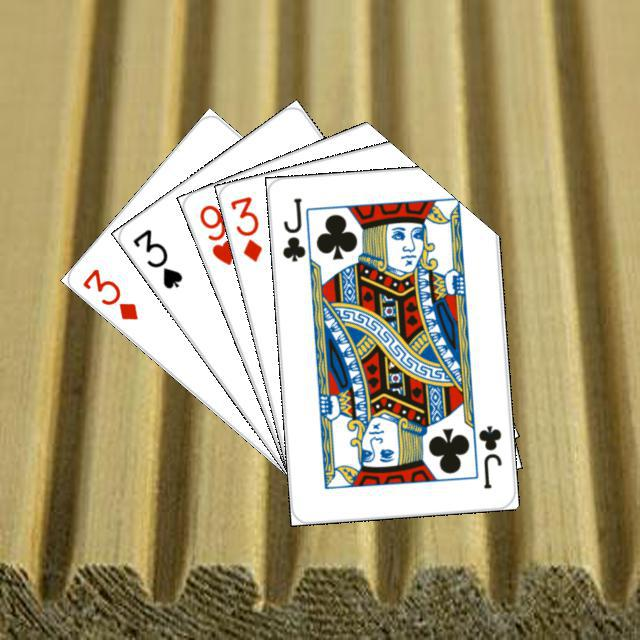3d: (77, 263, 140, 322), (225, 191, 264, 264)
3s: (127, 224, 185, 291)
9h: (194, 199, 237, 268)
Jc: (473, 420, 503, 491), (277, 193, 307, 263)
